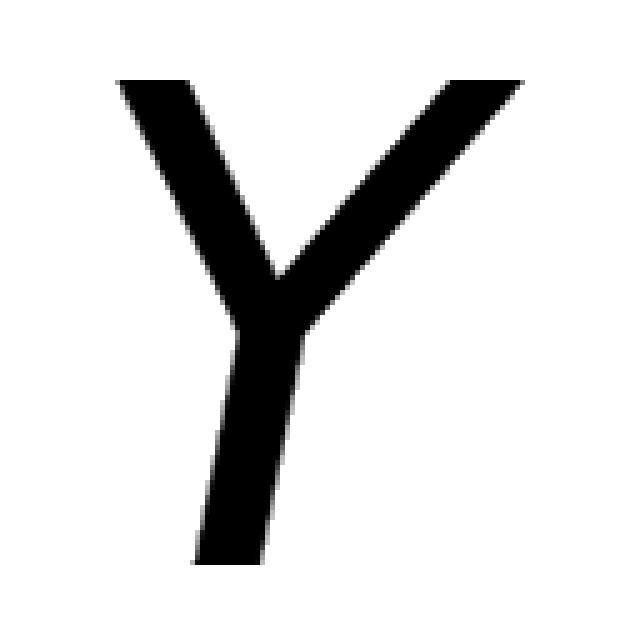Y: (105, 65, 525, 565)
